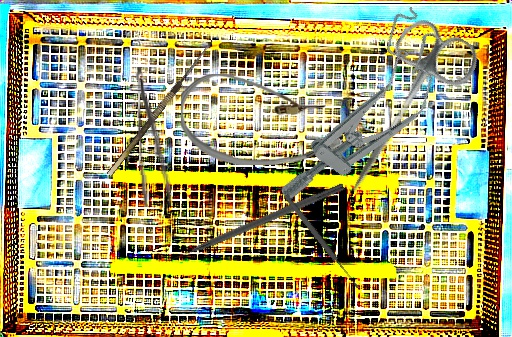Cannula: (180, 73, 344, 167)
Dressing Forceps: (133, 65, 173, 208)
Hook Surgical: (99, 34, 216, 177), (162, 181, 346, 267)
Iris Scissors: (321, 11, 485, 214)
Speculum: (265, 2, 470, 231)
Surgical Spoon: (282, 193, 361, 290)
